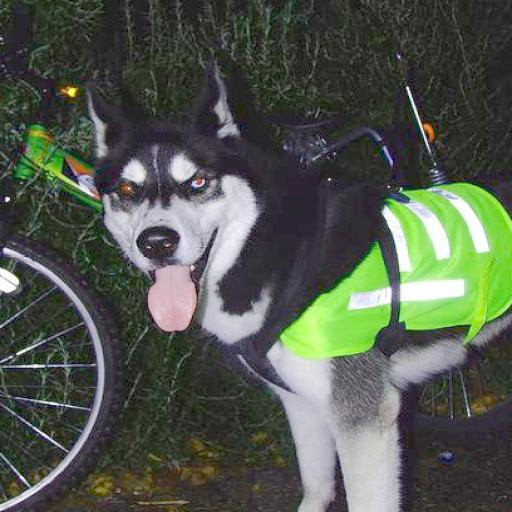dog_face: (92, 85, 264, 310)
